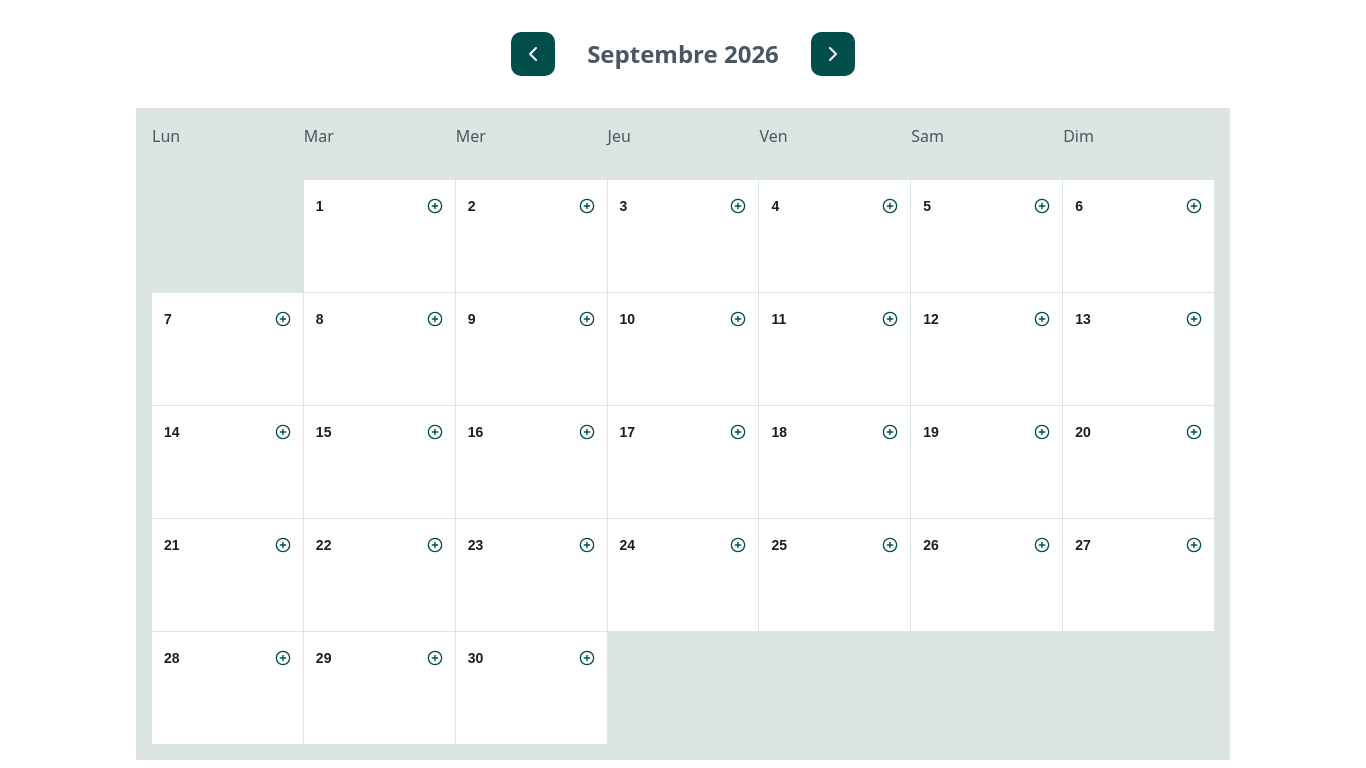
Test: Calendar › navigates to the next month
Expected: the heading "septembre 2026" is shown, [587, 36, 779, 72]
Click the button named "Mois suivant".
click(833, 54)  # box [811, 32, 855, 76]
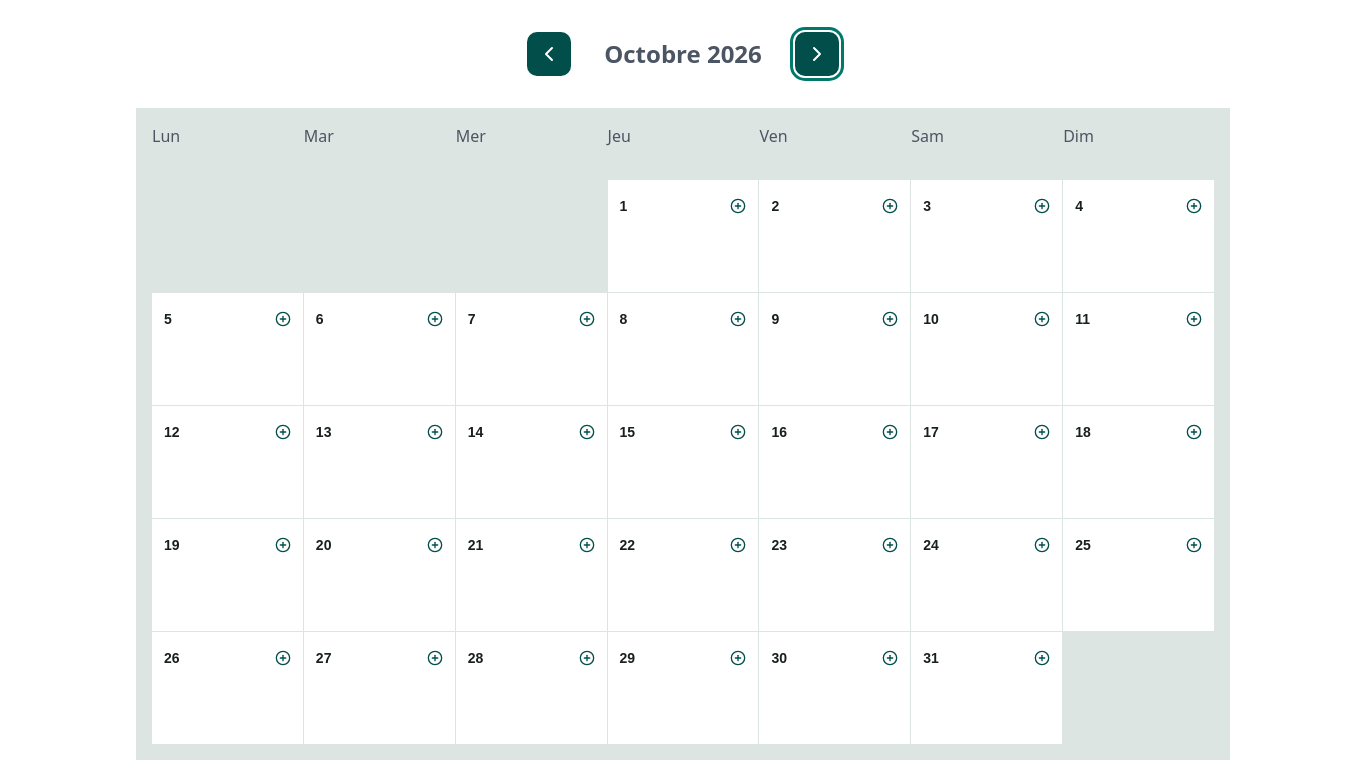
Expected: the heading "octobre 2026" is shown, [603, 36, 763, 72]
Click the button named "Mois précédent".
click(549, 54)  # box [527, 32, 571, 76]
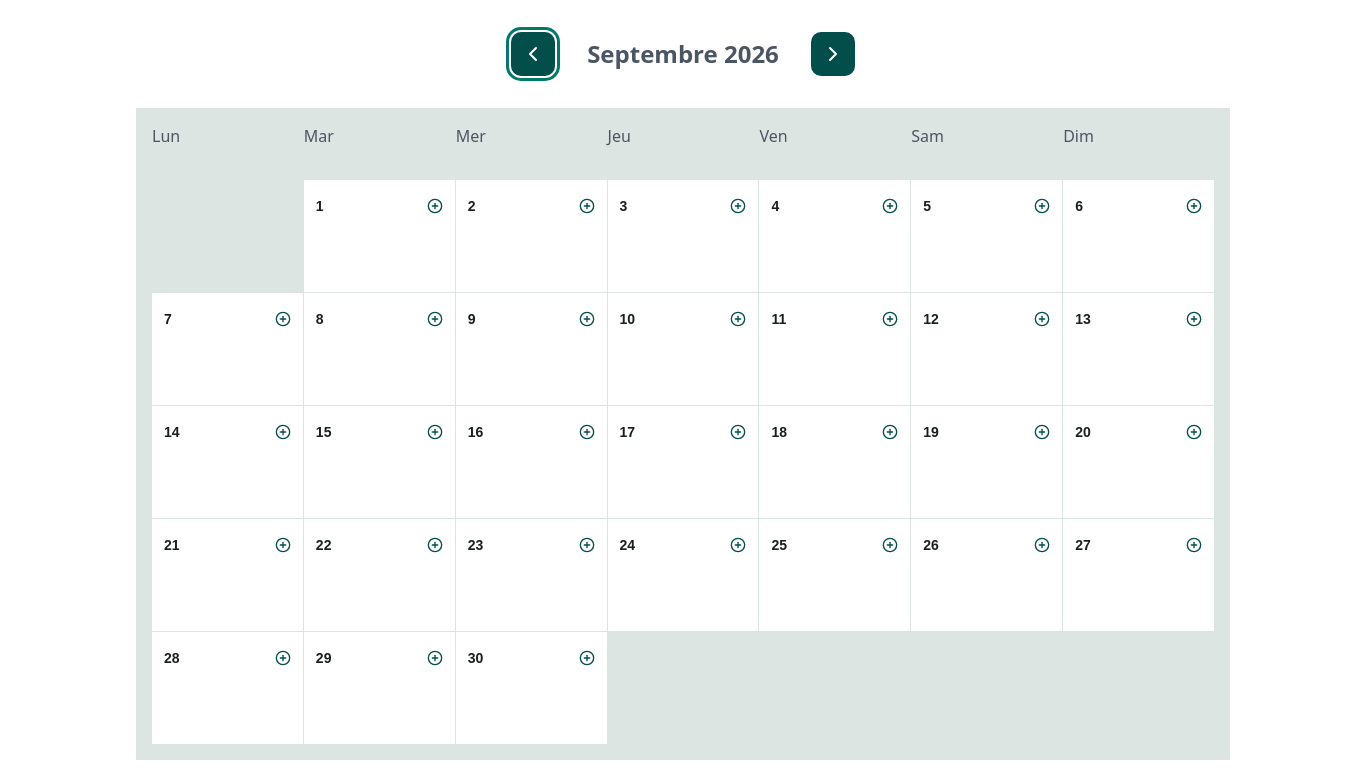
Expected: the heading "septembre 2026" is shown, [587, 36, 779, 72]
